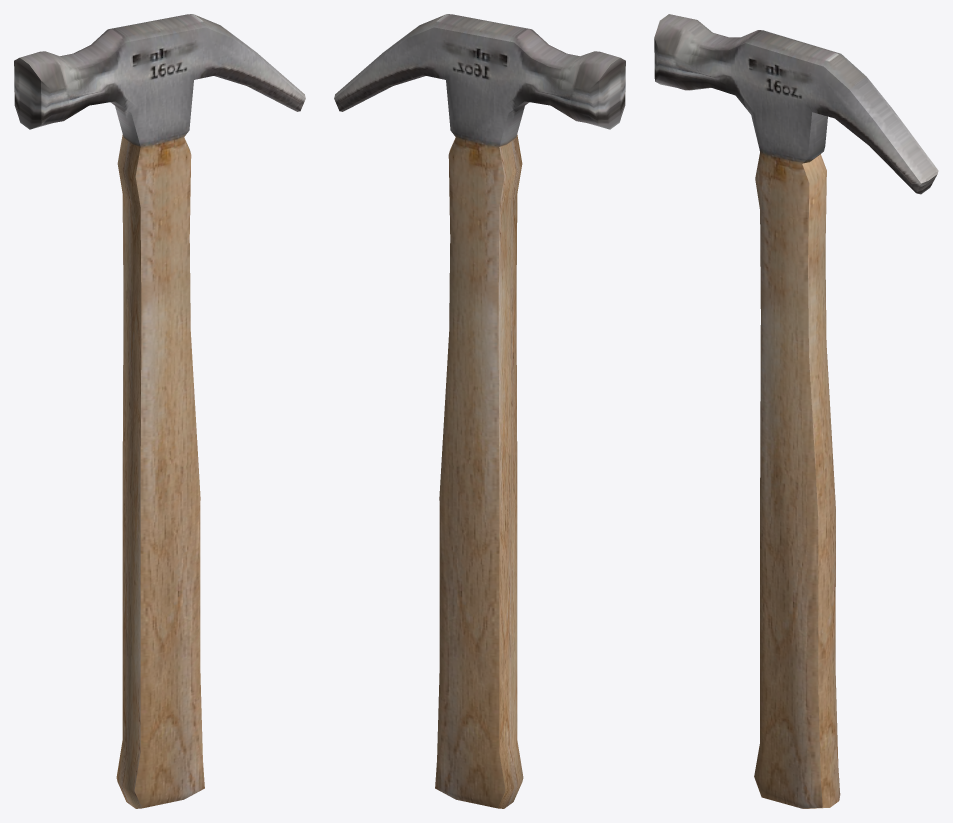
Rendered from Hammer.glb.
The picture shows the model from 3 angles, left to right: view 1: azimuth 30°, elevation 25°; view 2: azimuth 150°, elevation 25°; view 3: azimuth 330°, elevation 25°; orthographic projection. The views are drawn at different scales.
Parts seen in each view (by area): view 1: Cube; view 2: Cube; view 3: Cube.
Boxes of the visible parts, bbox=[...] form: Cube: bbox=[14, 14, 305, 808]; Cube: bbox=[334, 14, 625, 808]; Cube: bbox=[654, 14, 938, 808].
Size of the model in its own units: 0.3649 by 0.984 by 0.0737.
Materials: 1 (1 with a texture image).
